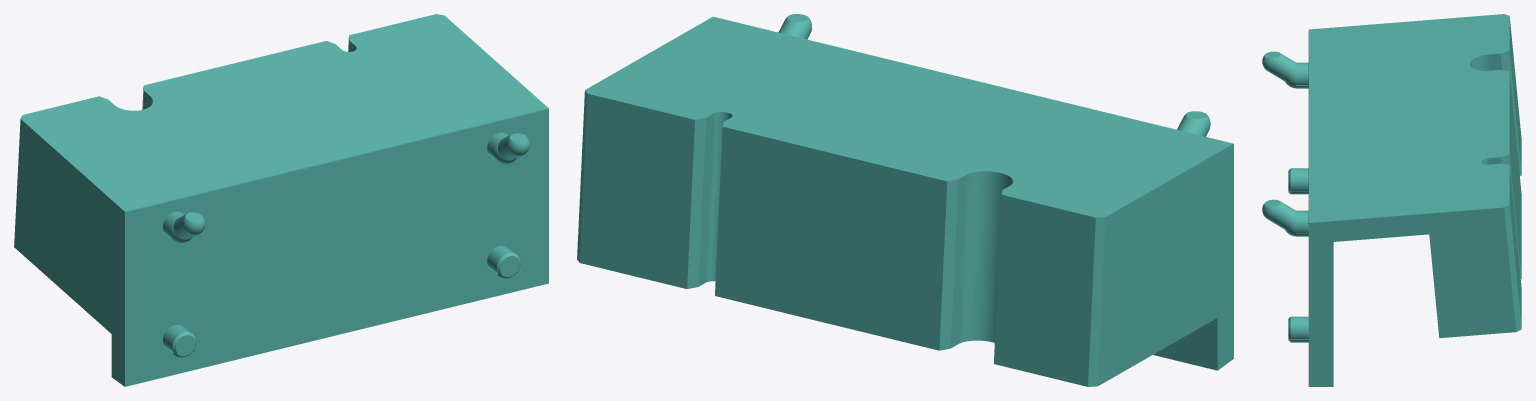
File: part-mb01-magnetic-shaft-bar-f__v1__installed.glb
3 views of the same model, side by side, from view 1: azimuth 30°, elevation 25°; view 2: azimuth 150°, elevation 25°; view 3: azimuth 270°, elevation 25° (orthographic). The views are drawn at different scales.
Visible parts, largest first — view 1: Actual holder mesh; view 2: Actual holder mesh; view 3: Actual holder mesh.
Boxes of the visible parts, x1,y1,x2,y2 form: Actual holder mesh: (14,14,548,386); Actual holder mesh: (577,14,1233,386); Actual holder mesh: (1262,14,1521,386).
Bounding box in the file's own units: 0.0996 × 0.0431 × 0.0564.
